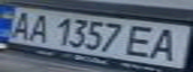1: (51, 15, 72, 47)
3: (66, 16, 90, 50)
5: (84, 18, 106, 52)
7: (100, 20, 130, 54)
A: (145, 26, 190, 62), (3, 8, 36, 41), (24, 11, 54, 44)
E: (124, 22, 163, 58)
